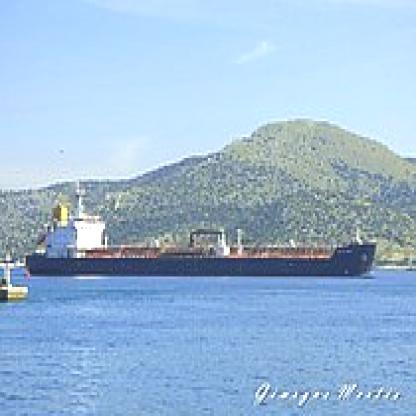Tanker: (25, 230, 383, 283)
